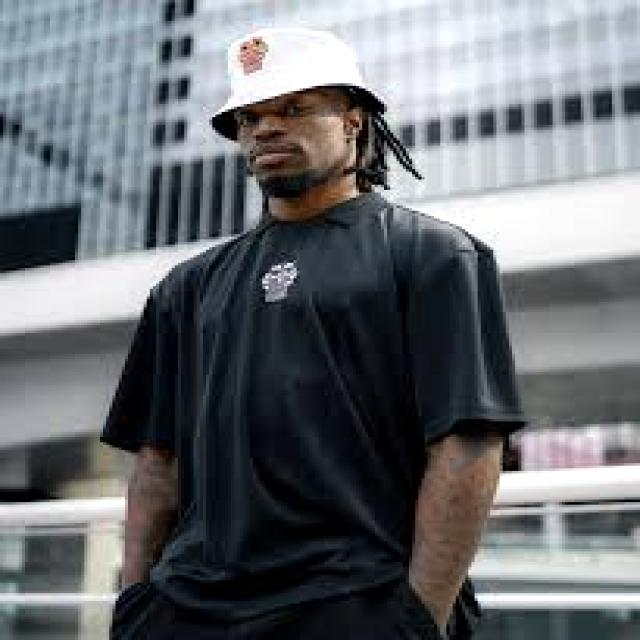hat: (210, 29, 387, 140)
